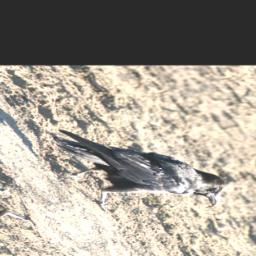Crow: (25, 106, 244, 230)
